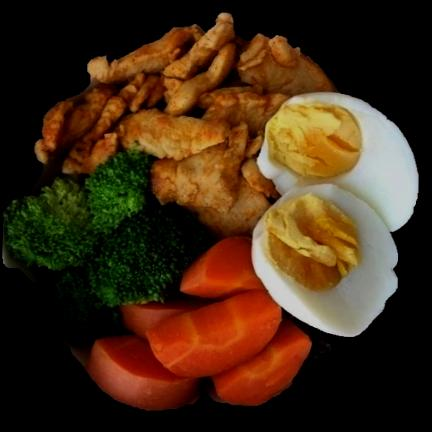broccoli: (0, 146, 218, 346)
carrot: (88, 238, 313, 411)
chicken: (35, 15, 341, 237)
egg: (251, 92, 418, 334)
